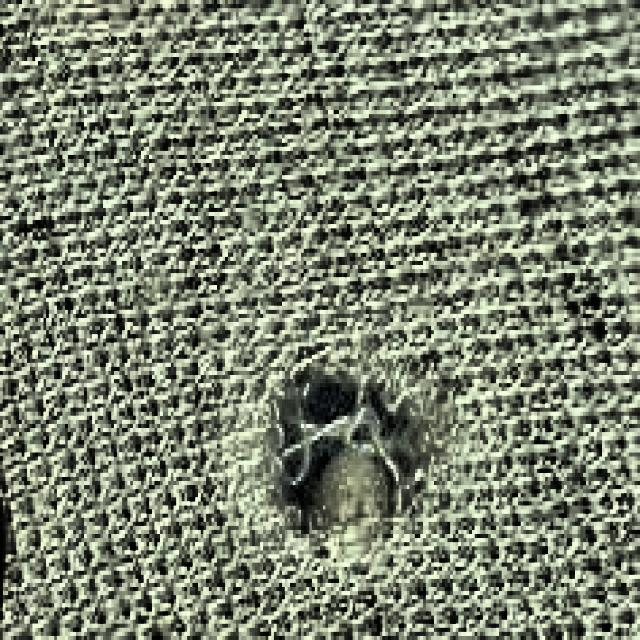Hole: (251, 336, 450, 578)
